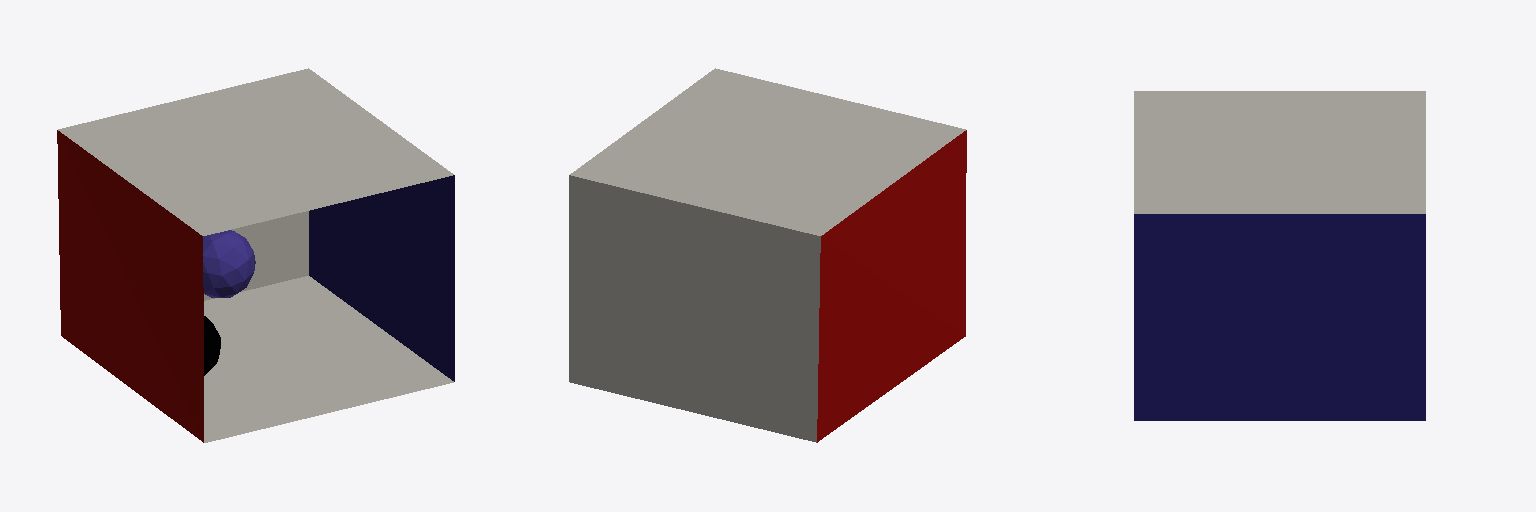
Rendered from CornellBox-Sphere-283.obj.
3 renders of one model, left to right at view 1: azimuth 30°, elevation 25°; view 2: azimuth 150°, elevation 25°; view 3: azimuth 270°, elevation 25°, orthographic.
Visible parts, largest first — view 1: ceiling, leftWall, floor, rightWall, backWall, leftSphere, rightSphere; view 2: backWall, ceiling, leftWall; view 3: rightWall, ceiling.
Part boxes in pixels (bbox=[...]): ceiling: bbox=[58, 68, 453, 235]; leftWall: bbox=[57, 130, 203, 442]; floor: bbox=[204, 276, 453, 442]; rightWall: bbox=[309, 175, 454, 381]; backWall: bbox=[204, 211, 308, 300]; leftSphere: bbox=[203, 230, 255, 297]; rightSphere: bbox=[204, 316, 220, 375]; backWall: bbox=[569, 175, 820, 442]; ceiling: bbox=[570, 68, 965, 235]; leftWall: bbox=[817, 130, 966, 442]; rightWall: bbox=[1134, 214, 1425, 420]; ceiling: bbox=[1134, 91, 1425, 213].
Bounding box in the file's own units: 2.02 × 1.59 × 2.03.